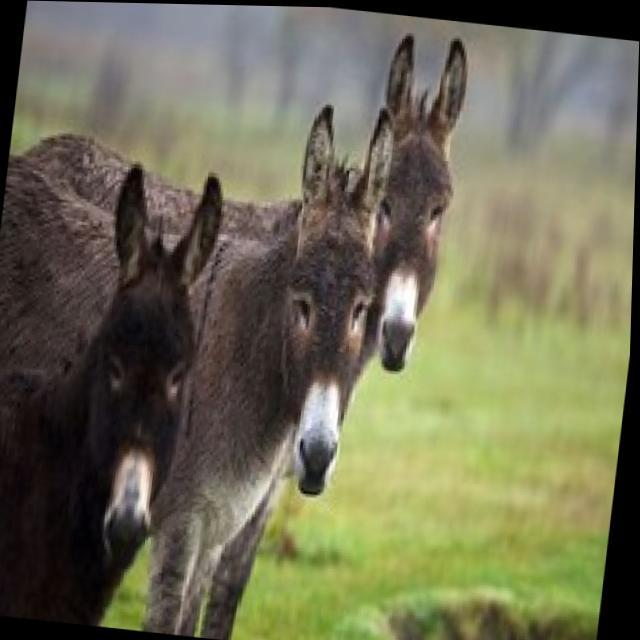Donkey: (0, 65, 403, 640), (203, 10, 475, 640), (0, 141, 233, 631)
